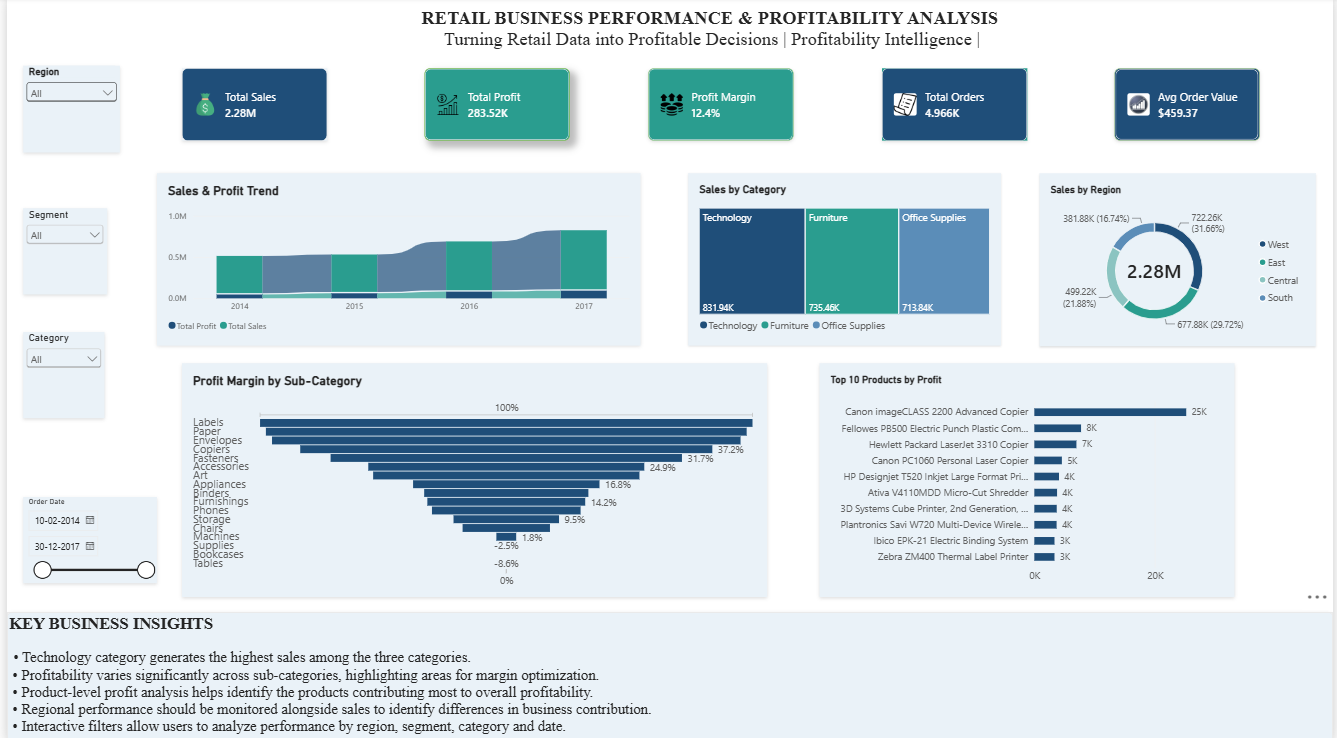

The dashboard page shown, as its layout file describes it:
{"tool":"powerbi","page":{"name":"Page 1","canvas":[1920,1080],"ordinal":0},"visuals":[{"type":"cardVisual","fields":{"Data":["cleaned_retail_data.Total Sales"]},"box":[253.4,103.2,210,105],"z":0},{"type":"cardVisual","fields":{"Data":["cleaned_retail_data.Total Profit"]},"box":[604.4,103.2,210,105],"z":1000},{"type":"cardVisual","fields":{"Data":["cleaned_retail_data.Profit Margin Measure"]},"box":[928.4,103.2,210,105],"z":2000},{"type":"cardVisual","fields":{"Data":["Count(cleaned_retail_data.Order ID)"]},"box":[1266.8,103.2,210,105],"z":3000},{"type":"cardVisual","fields":{"Data":["cleaned_retail_data.Avg Order Value"]},"box":[1603.4,103.2,210,105],"z":4000},{"type":"treemap","title":"Sales by Category","fields":{"Group":["cleaned_retail_data.Category"],"Values":["cleaned_retail_data.Total Sales"]},"box":[986.3,255.2,452.4,249.7],"z":5000},{"type":"donutChart","title":"Sales by Region","fields":{"Category":["cleaned_retail_data.Region"],"Y":["cleaned_retail_data.Total Sales"]},"box":[1494.8,255.2,400,250],"z":6000},{"type":"textbox","box":[380,14.5,1268.6,88.7],"z":7000},{"type":"funnel","fields":{"Category":["cleaned_retail_data.Sub-Category"],"Y":["cleaned_retail_data.Profit Margin Measure"]},"box":[253.4,530.2,846.9,338.4],"z":8000},{"type":"clusteredBarChart","title":"Top 10 Products by Profit","fields":{"Category":["cleaned_retail_data.Product Name"],"Y":["cleaned_retail_data.Total Profit"]},"box":[1176.3,530.2,600.8,338.4],"z":9000},{"type":"slicer","fields":{"Values":["cleaned_retail_data.Region"]},"box":[23.5,99.5,140,125.6],"z":10000},{"type":"slicer","fields":{"Values":["cleaned_retail_data.Category"]},"box":[23.5,485,117.6,124.9],"z":11000},{"type":"slicer","fields":{"Values":["cleaned_retail_data.Segment"]},"box":[23.5,305.8,121.2,124.9],"z":12000},{"type":"slicer","fields":{"Values":["cleaned_retail_data.Order Date"]},"box":[23.5,723.9,193.6,124.9],"z":13000},{"type":"textbox","box":[0,890.4,1920.1,190],"z":14000},{"type":"ribbonChart","title":"Sales & Profit Trend","fields":{"Category":["cleaned_retail_data.Order Date.Variation.Date Hierarchy.Year"],"Y":["cleaned_retail_data.Total Profit","cleaned_retail_data.Total Sales"]},"box":[217.2,255.2,700.3,249.7],"z":15000}]}

Visuals, with their boxes in screenshot pixels (x1, y1, x2, y2), scaled from the page's 1920x1080 canvas onto the 1337x738 screenshot:
cardVisual - cleaned_retail_data.Total Sales: [176,71,323,142]
cardVisual - cleaned_retail_data.Total Profit: [421,71,567,142]
cardVisual - cleaned_retail_data.Profit Margin Measure: [646,71,793,142]
cardVisual - Count(cleaned_retail_data.Order ID): [882,71,1028,142]
cardVisual - cleaned_retail_data.Avg Order Value: [1117,71,1263,142]
"Sales by Category" treemap: [687,174,1002,345]
"Sales by Region" donutChart: [1041,174,1319,345]
textbox: [265,10,1148,71]
funnel - cleaned_retail_data.Sub-Category x cleaned_retail_data.Profit Margin Measure: [176,362,766,594]
"Top 10 Products by Profit" clusteredBarChart: [819,362,1237,594]
slicer - cleaned_retail_data.Region: [16,68,114,154]
slicer - cleaned_retail_data.Category: [16,331,98,417]
slicer - cleaned_retail_data.Segment: [16,209,101,294]
slicer - cleaned_retail_data.Order Date: [16,495,151,580]
textbox: [0,608,1336,737]
"Sales & Profit Trend" ribbonChart: [151,174,639,345]
